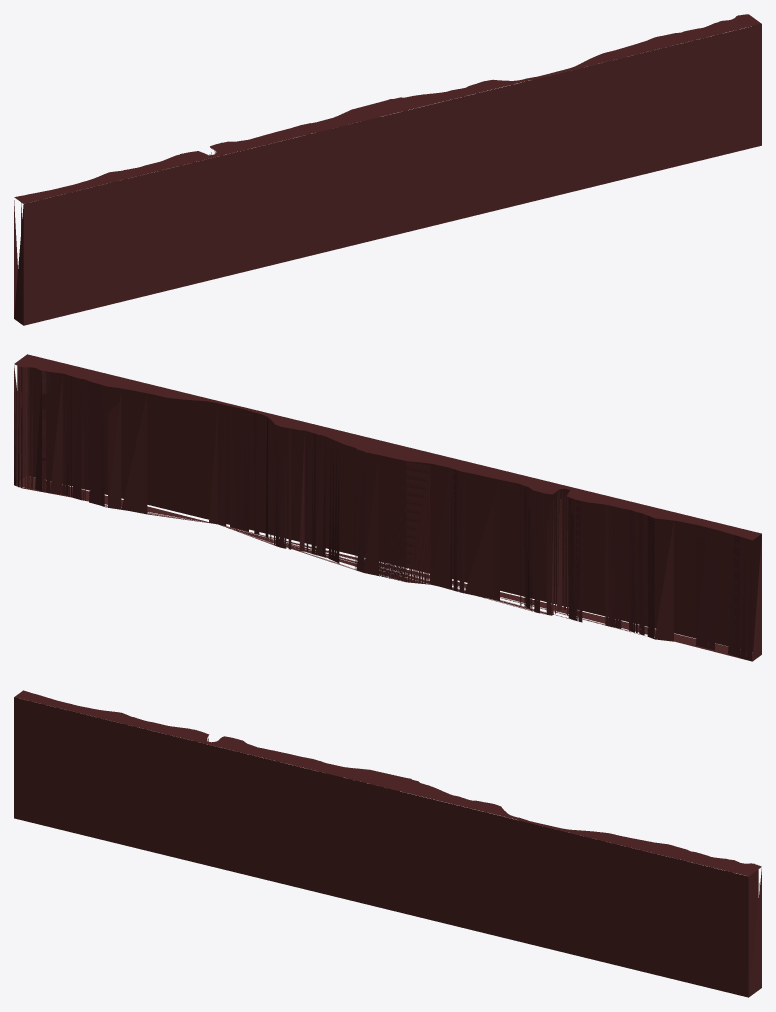
Rendered from Land.FBX.
3 renders of one model, top to bottom at view 1: azimuth 30°, elevation 25°; view 2: azimuth 150°, elevation 25°; view 3: azimuth 330°, elevation 25°, orthographic.
Parts seen in each view (by area): view 1: Shape1; view 2: Shape1; view 3: Shape1.
Part boxes in pixels (x1,y1,x2,y2): Shape1: (14,14,761,325); Shape1: (14,354,761,661); Shape1: (14,690,761,997).
Size of the model in its own units: 159 by 25 by 5.93.
